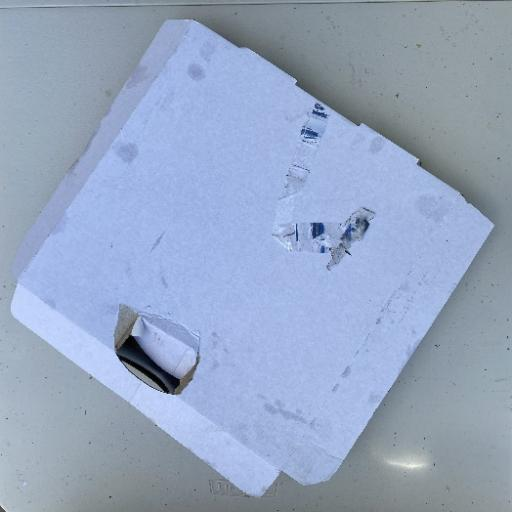Cardboard: (9, 17, 495, 498)
